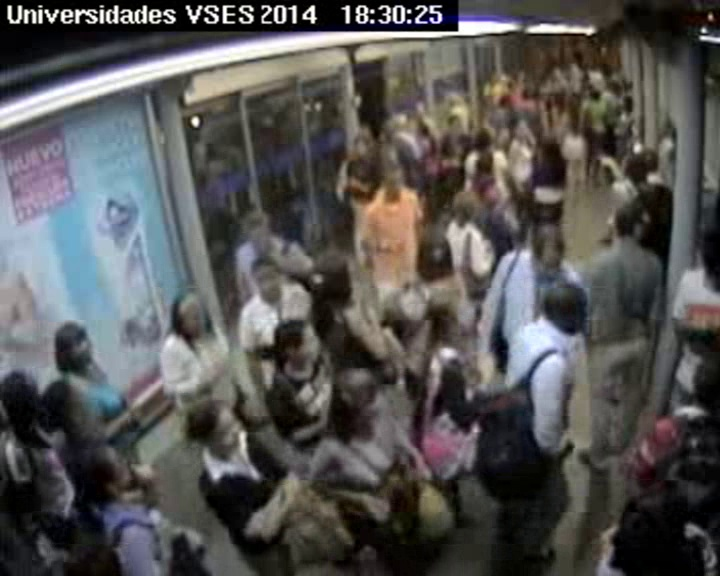person: (186, 400, 246, 463), (332, 369, 387, 429), (82, 446, 135, 501), (273, 321, 322, 376), (542, 281, 589, 337), (528, 225, 571, 276), (54, 322, 97, 372), (1, 372, 41, 423), (312, 255, 354, 303), (425, 290, 467, 338), (415, 232, 458, 278), (171, 295, 214, 339), (239, 210, 281, 254), (248, 258, 286, 300), (376, 163, 403, 195), (449, 191, 475, 222), (612, 207, 637, 237), (478, 179, 505, 206), (349, 131, 375, 158), (536, 143, 557, 168), (396, 111, 417, 134), (628, 161, 649, 183), (476, 152, 497, 173), (508, 119, 527, 140), (474, 128, 492, 148), (641, 151, 658, 171), (589, 142, 605, 160), (565, 97, 581, 113), (548, 66, 563, 82), (445, 93, 459, 109), (378, 128, 392, 144), (413, 101, 427, 116), (620, 96, 633, 111), (447, 115, 460, 130), (600, 65, 613, 78), (610, 82, 622, 96), (487, 71, 498, 83), (589, 89, 600, 101), (546, 94, 557, 106), (572, 54, 582, 67), (515, 70, 526, 81), (499, 96, 509, 108), (587, 57, 597, 68)
